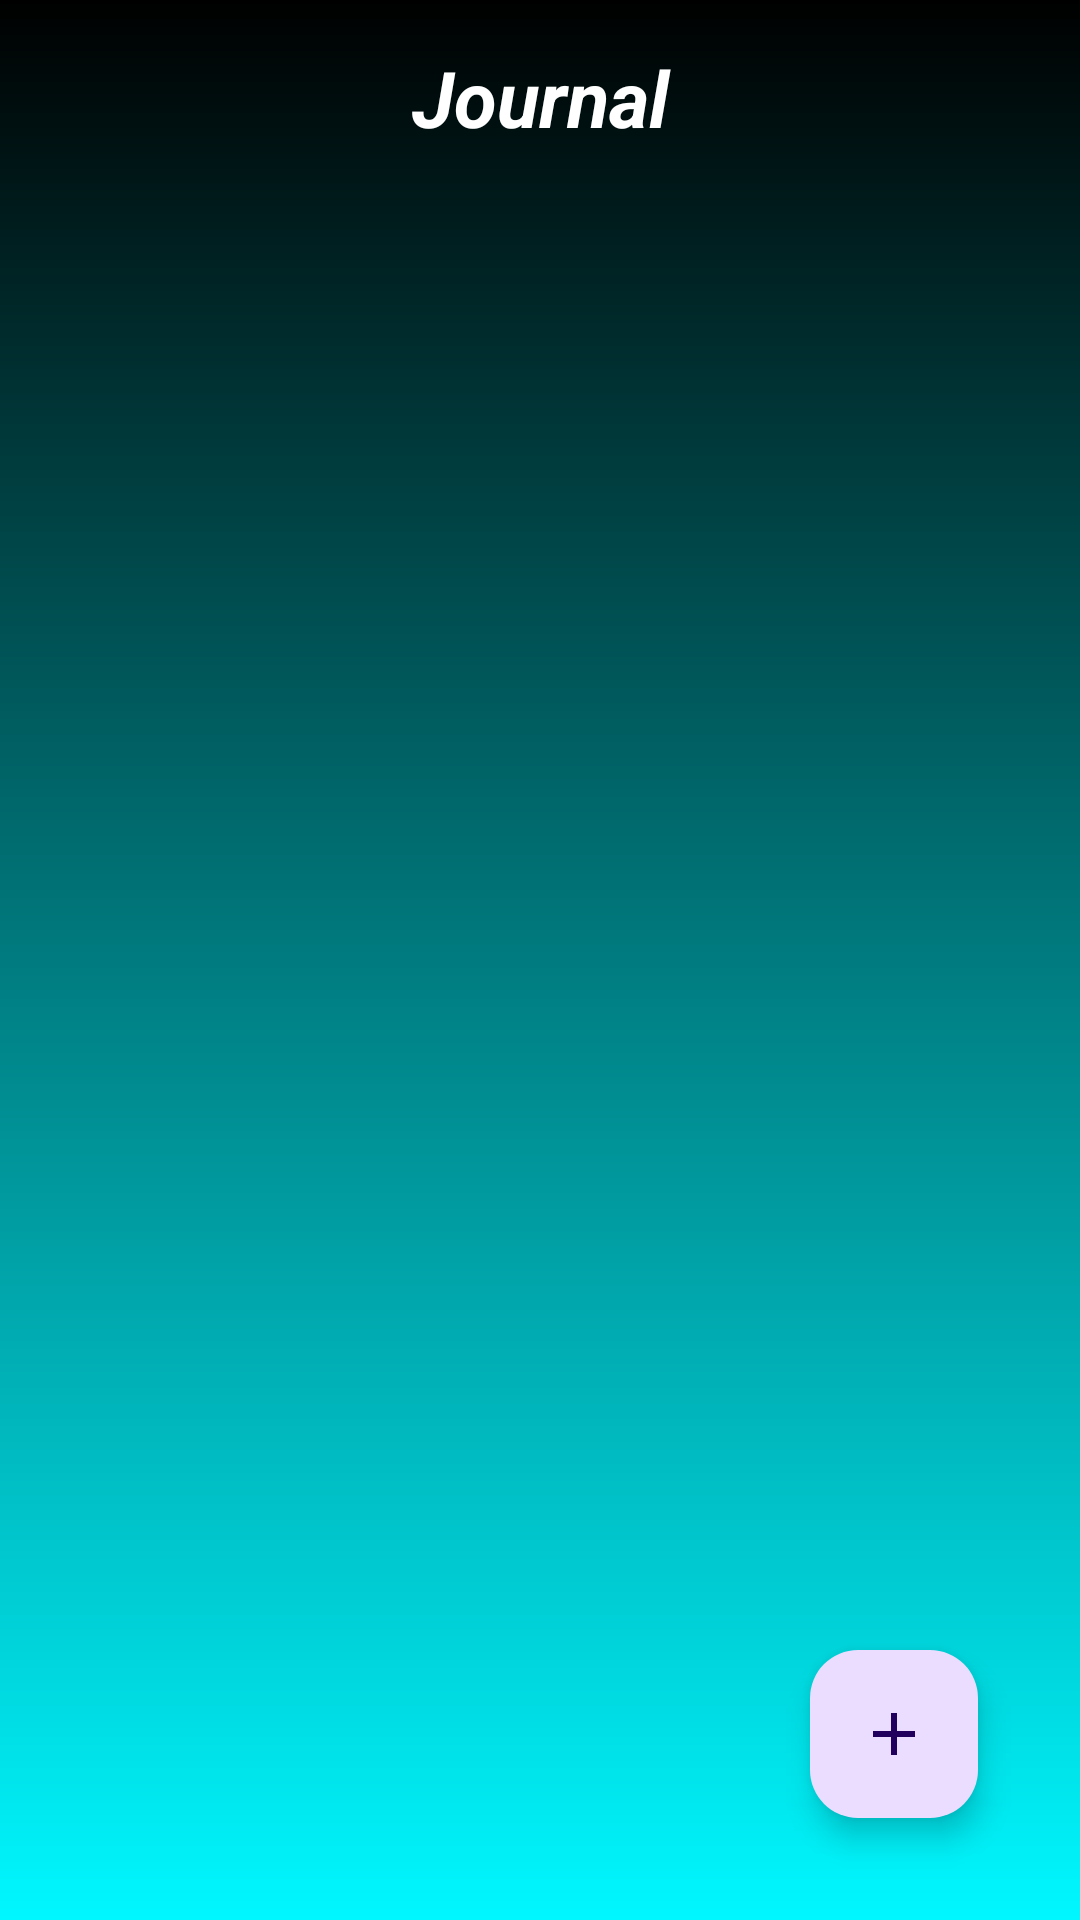

Icons on this 1080px x 1920px Android screen, each with the point to tap as point (x, y):
add: point (894, 1734)
